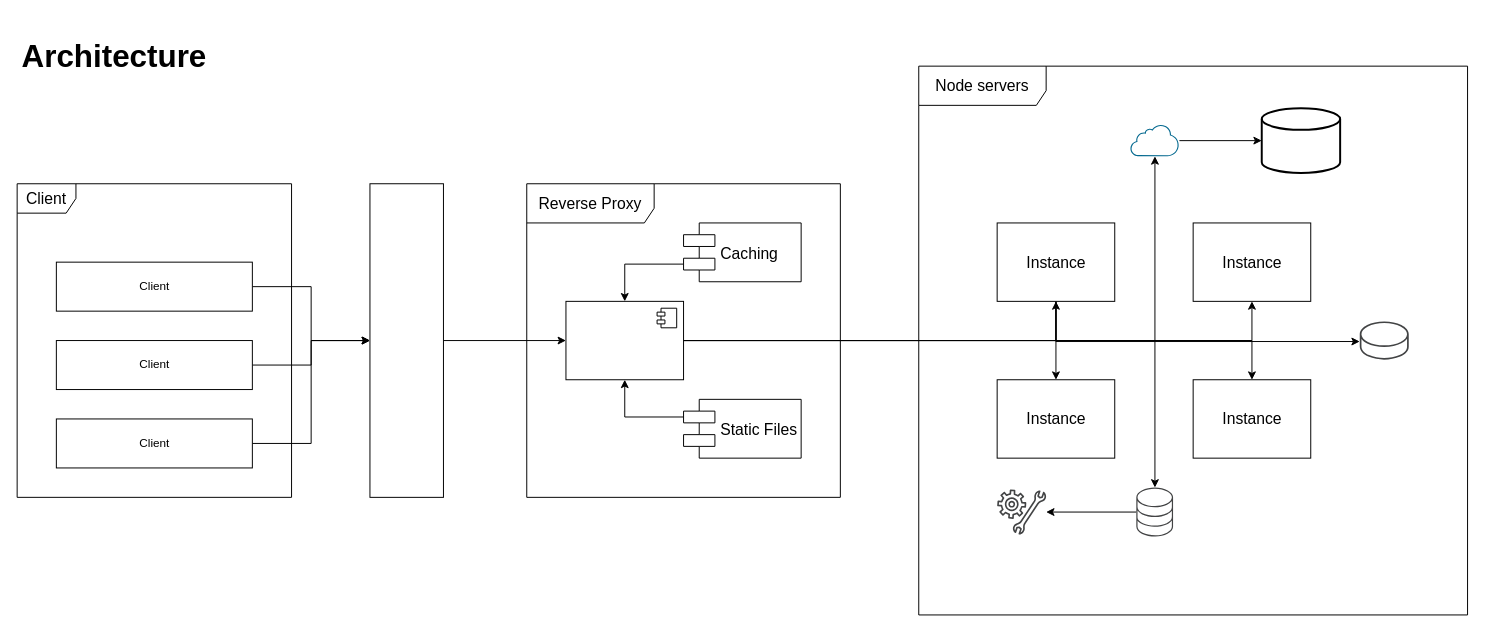
This 1485x632 diagram has some shape labels left out. Here are the shapes that lost their labels. From the top down, the centre of each, then its label:
At [1300,140]: "MongoDB".
At [406,340]: "«interface» API".
At [624,340]: "Nginx".
At [1383,340]: "Redis as Message Broker".
At [1021,511]: "Service Worker".
At [1154,511]: "Job Queue".
